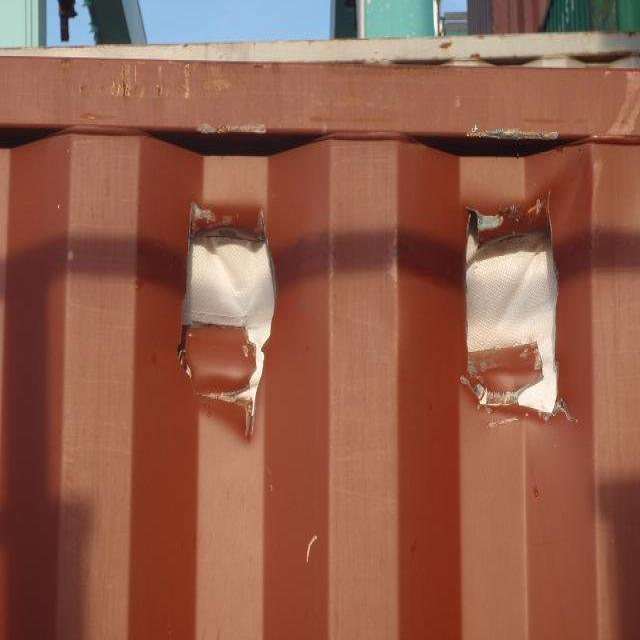hole: (461, 207, 564, 424), (178, 211, 274, 442)
